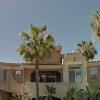Palm tree: (12, 19, 63, 99)
